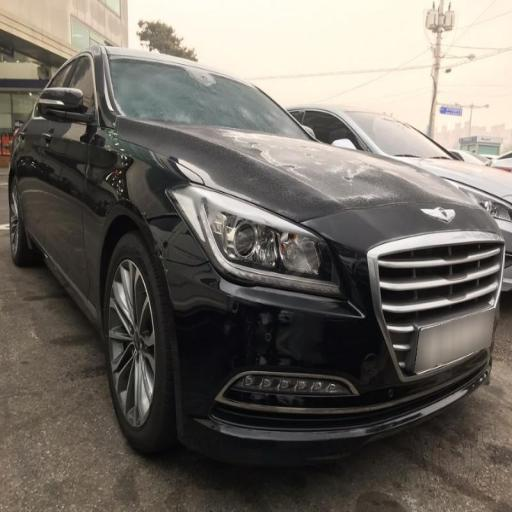scratch: (258, 126, 423, 231)
